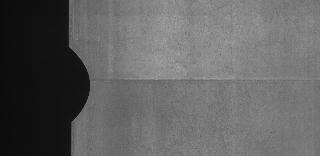welding line: (86, 73, 320, 86)
